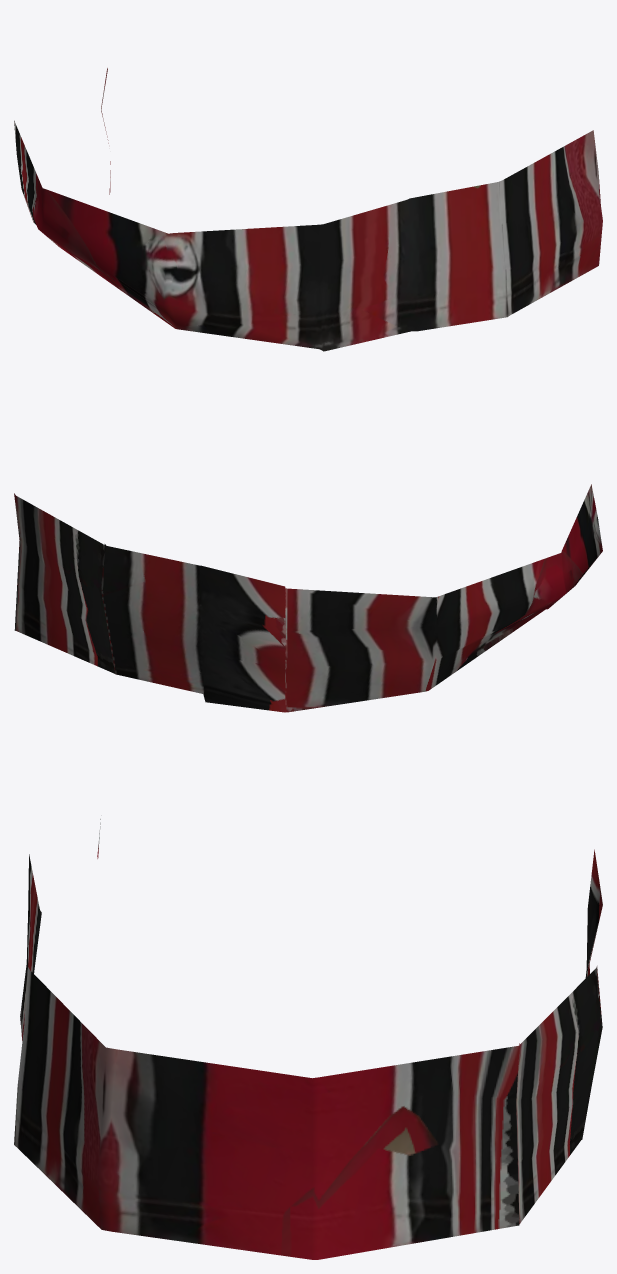
3 views of the same model, one above another, from view 1: azimuth 30°, elevation 25°; view 2: azimuth 150°, elevation 25°; view 3: azimuth 270°, elevation 25° (orthographic). The views are drawn at different scales.
Parts seen in each view (by area): view 1: geometry_0; view 2: geometry_0; view 3: geometry_0.
Part boxes in pixels (left/top/right/bottom): geometry_0: left=14, top=68, right=602, bottom=351; geometry_0: left=14, top=484, right=602, bottom=712; geometry_0: left=14, top=819, right=602, bottom=1259.
Bounding box in the file's own units: 0.4001 × 0.1024 × 0.2902.
Materials: 1 (1 with a texture image).
